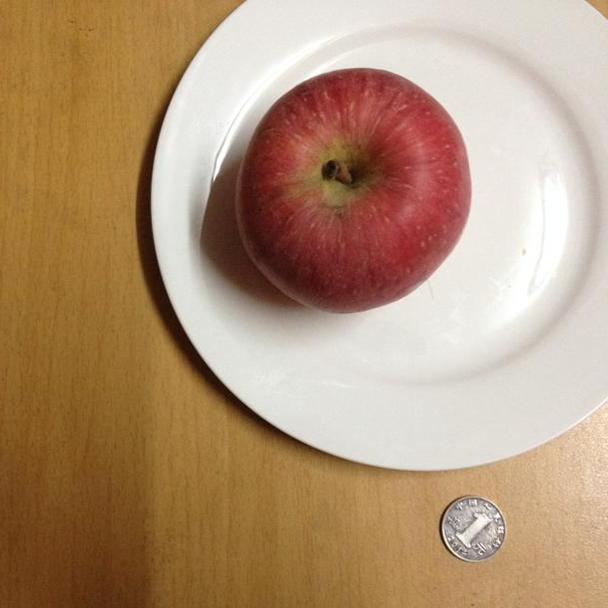apple: (235, 68, 473, 315)
